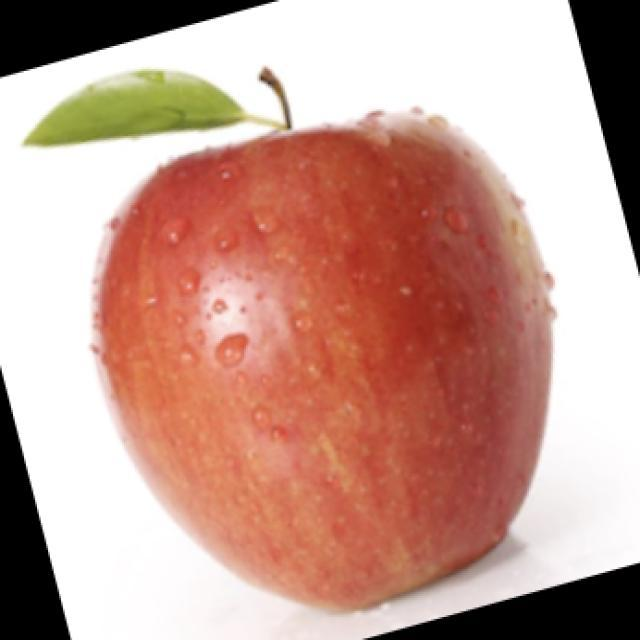Apple: (88, 103, 557, 613)
